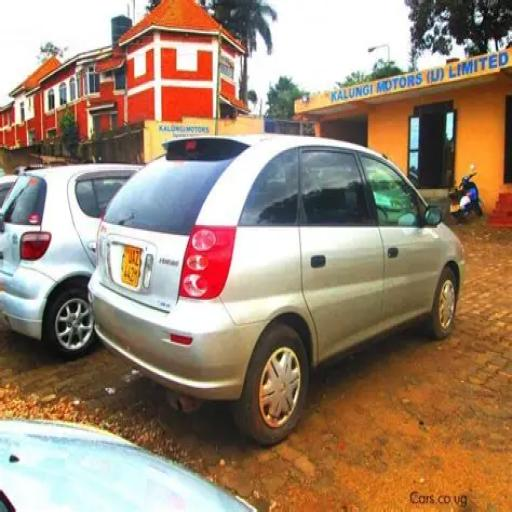number-plates: (122, 242, 140, 284)
